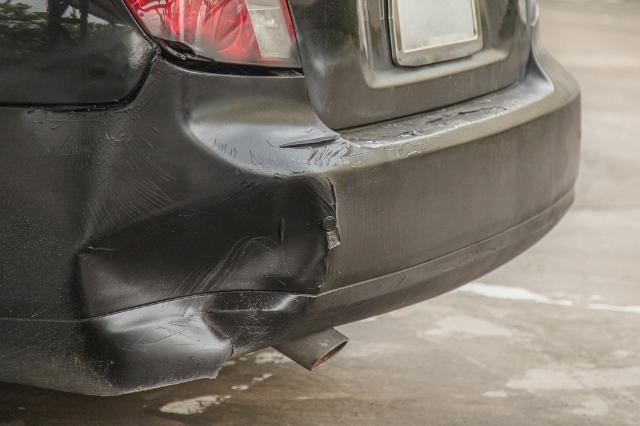dent: (83, 175, 331, 356)
lamp broken: (121, 0, 303, 70)
scratch: (72, 158, 181, 248)
